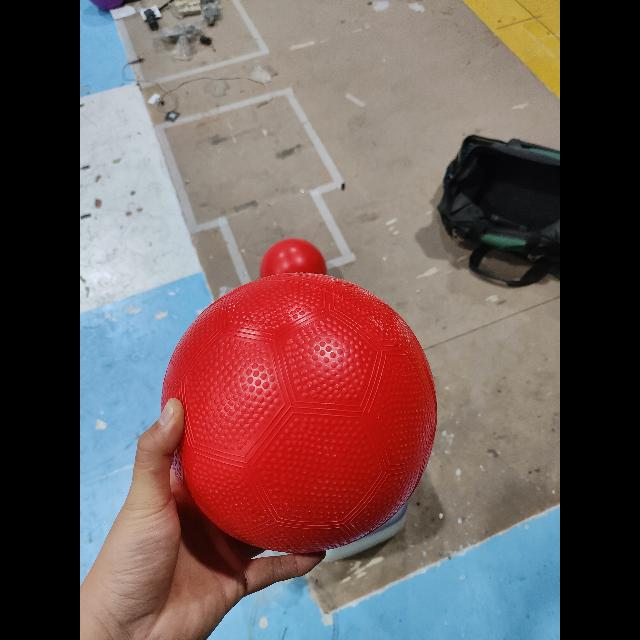P: (84, 0, 134, 12)
R: (159, 271, 439, 554), (259, 236, 329, 304)
